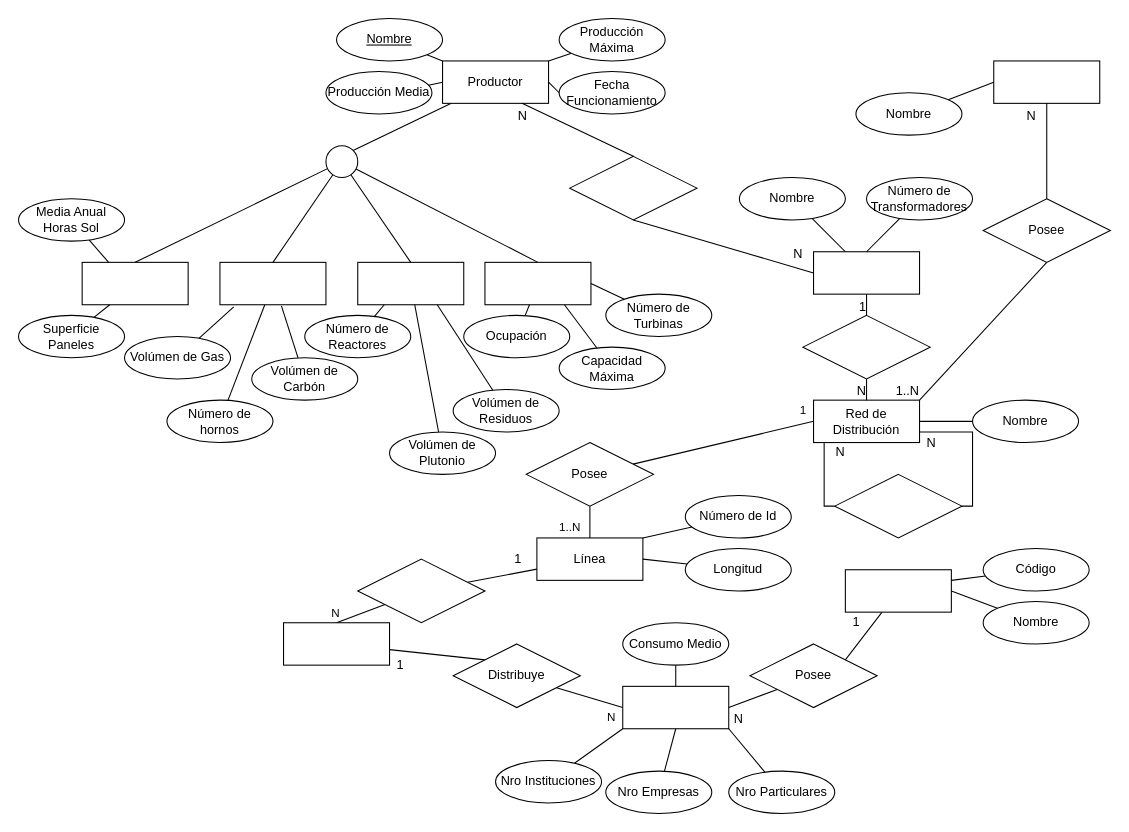
This 1129x832 diagram has some shape labels left out. Here are the shapes that lost their labels. From the top down, the box of each, then its label:
(993, 60, 1100, 103): Compañia Eléctrica
(569, 155, 697, 220): Entrega
(81, 261, 188, 305): Solar
(219, 261, 326, 305): Térmica
(357, 261, 464, 305): Nuclear
(484, 261, 591, 305): Hidroeléctrica
(812, 251, 920, 294): Estación Primaria
(802, 314, 930, 379): Abstece
(834, 473, 962, 538): Envía Energía
(357, 558, 485, 623): Abastece
(844, 569, 951, 612): Provincia
(282, 622, 390, 665): Subestación
(622, 685, 729, 729): Zona de Servicio
